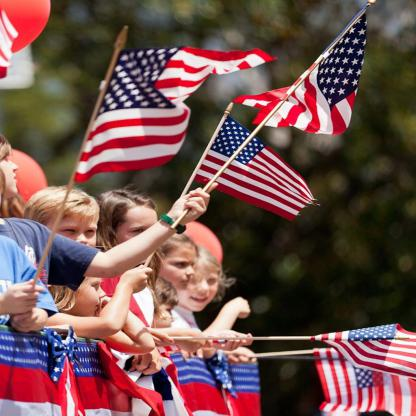face: (50, 217, 99, 267), (120, 211, 162, 267), (181, 258, 221, 313), (77, 270, 109, 321), (165, 245, 199, 291), (1, 145, 24, 199), (156, 301, 177, 332)
